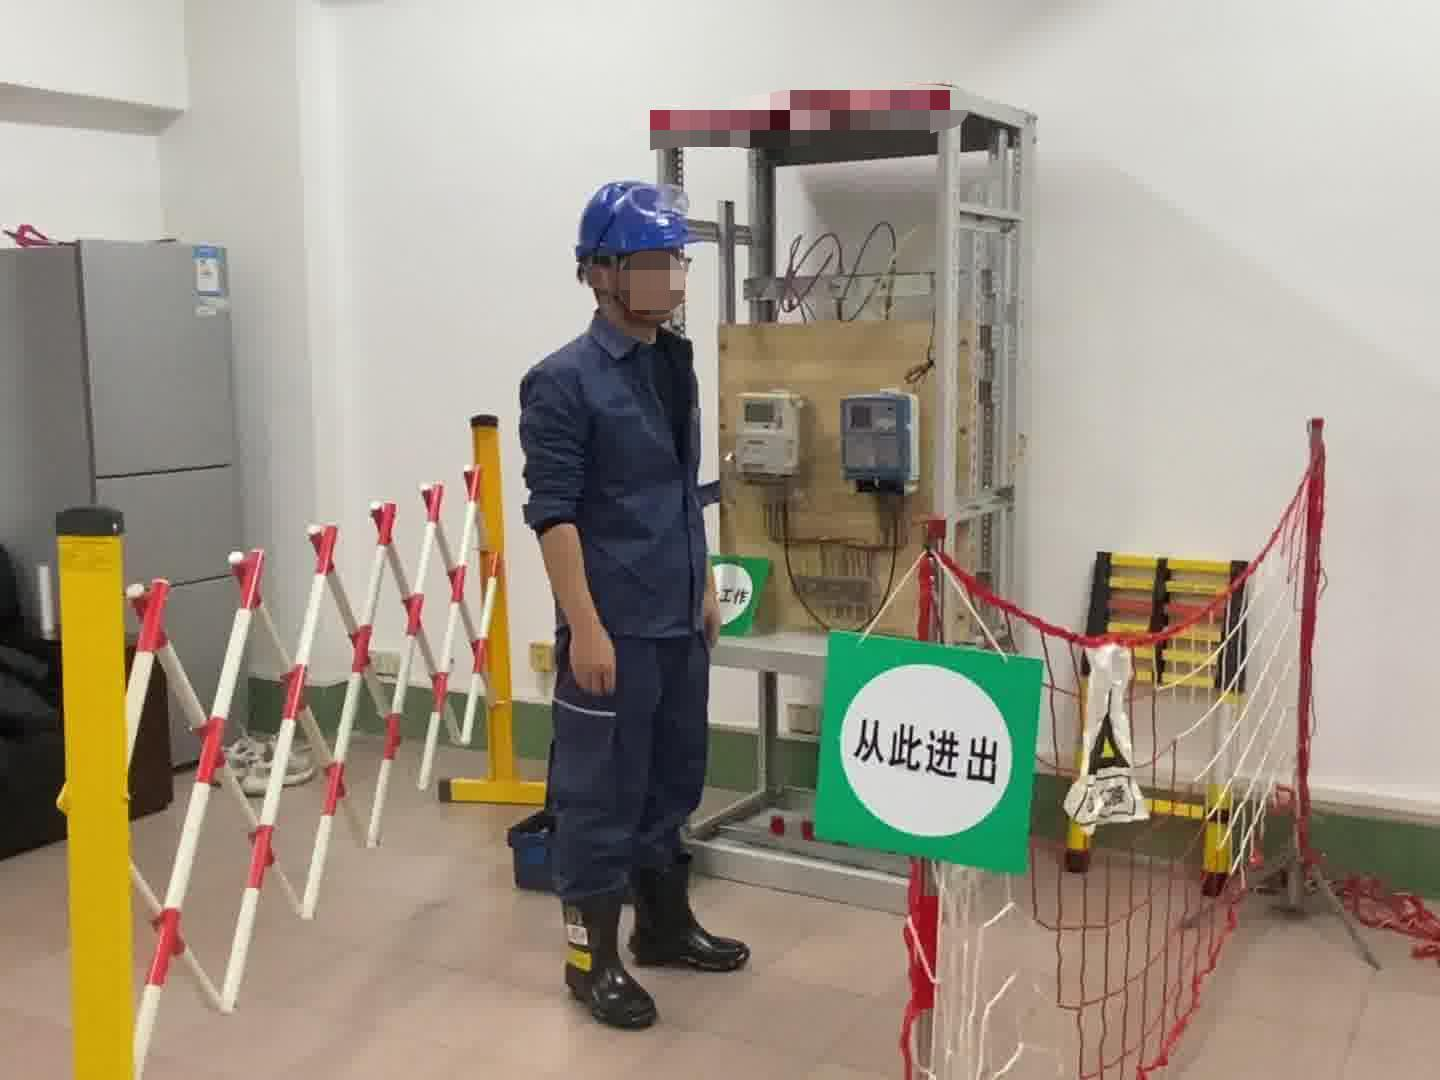halt: (574, 179, 703, 334)
inear: (581, 258, 641, 319)
